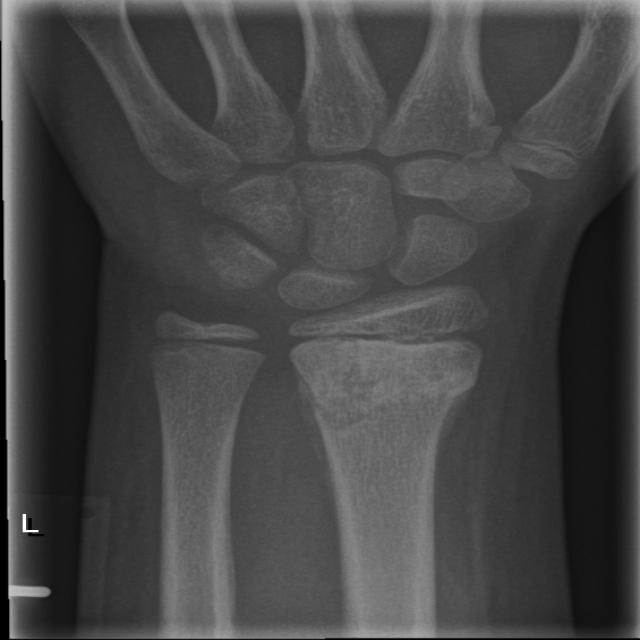radius fracture: (278, 354, 517, 469)
